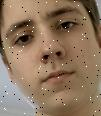without_mask: (1, 2, 101, 116)
